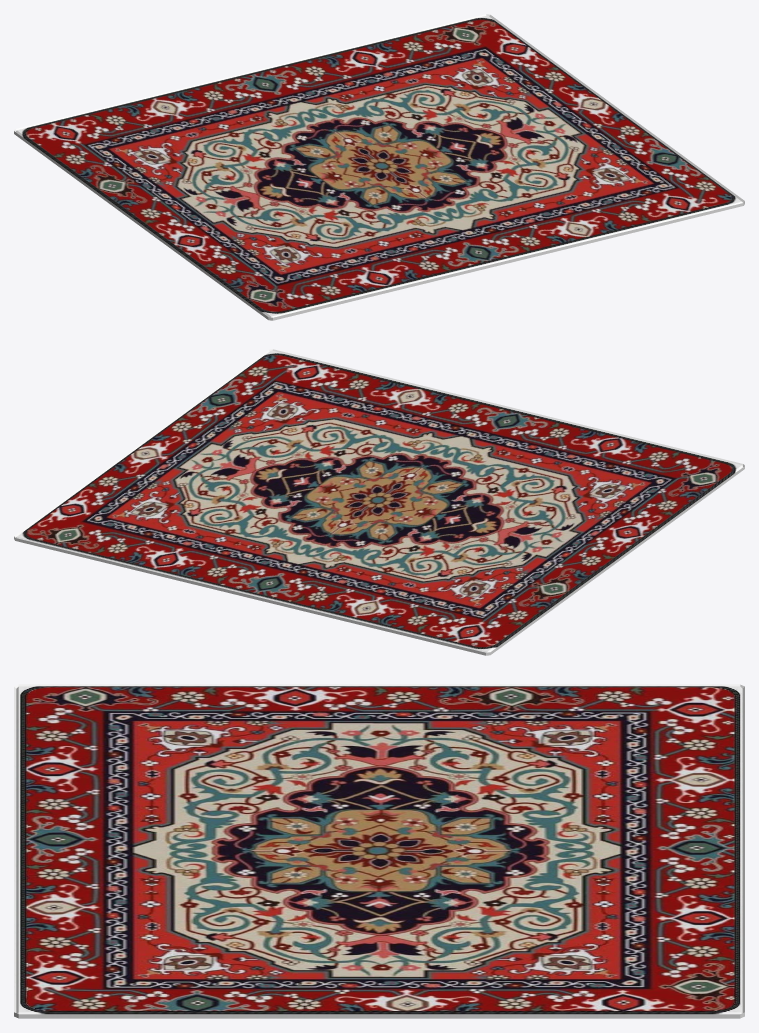
The model's file is rug.fbx.
3 renders of one model, top to bottom at view 1: azimuth 30°, elevation 25°; view 2: azimuth 150°, elevation 25°; view 3: azimuth 270°, elevation 25°, orthographic. The views are drawn at different scales.
Visible parts, largest first — view 1: pCube1; view 2: pCube1; view 3: pCube1.
Part boxes in pixels (left/top/right/bottom): pCube1: left=14, top=14, right=744, bottom=320; pCube1: left=14, top=349, right=744, bottom=655; pCube1: left=14, top=684, right=744, bottom=1018.
Size of the model in its own units: 16.52 by 0.1 by 15.48.
Materials: 1 (1 with a texture image).
